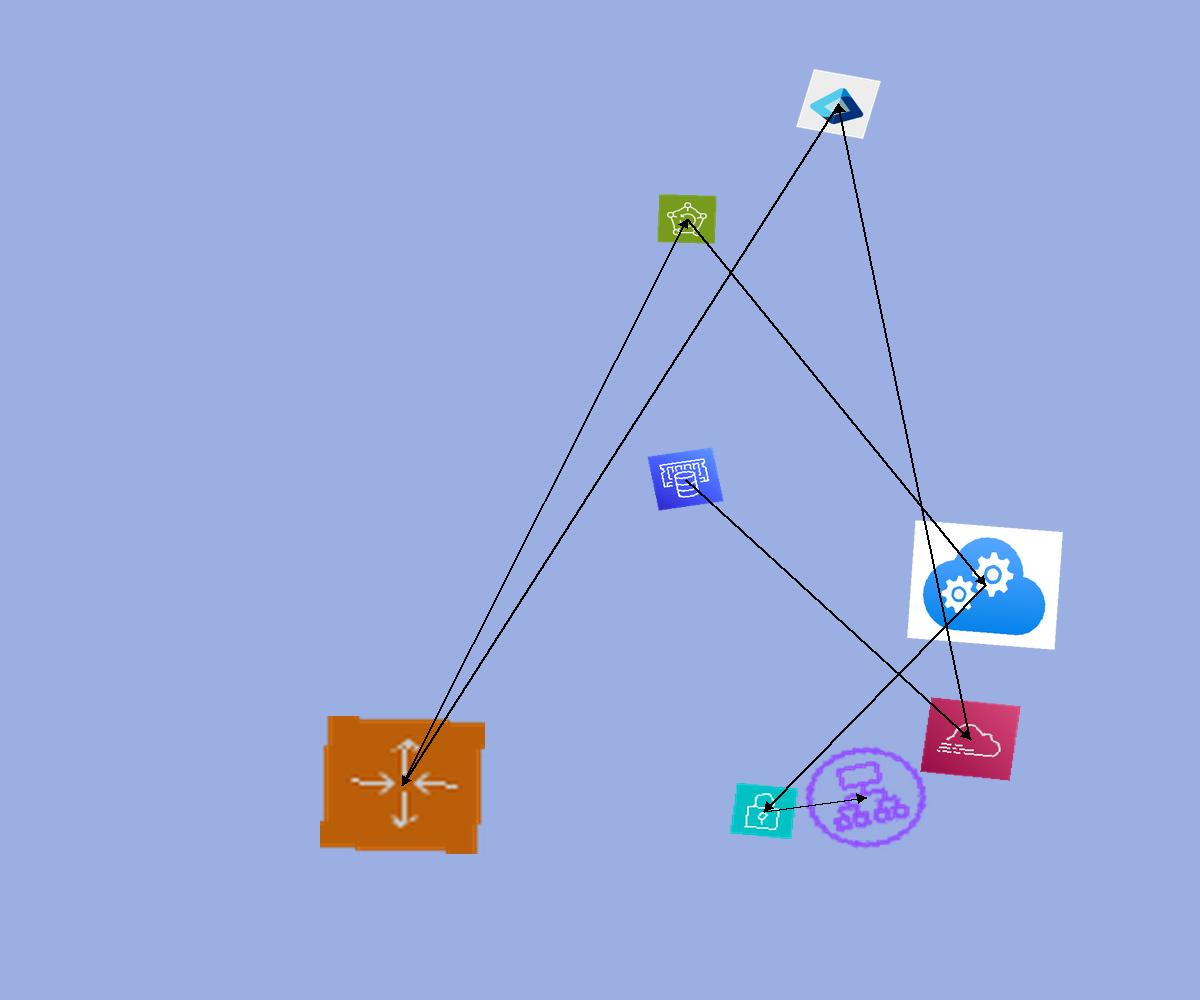AWS-Backup: (657, 194, 717, 244)
AWS-CloudTrail: (920, 697, 1021, 781)
AWS-ElastiCache: (647, 447, 724, 511)
AWS-Private-subnet: (729, 782, 799, 840)
AWS-Res_Elastic-Load-Balancing_Application-Load-Balancer: (785, 730, 947, 865)
AWS-Scaling-group: (320, 716, 485, 854)
Azure_cloud_services: (907, 520, 1063, 650)
Azure_microsoft_entra: (796, 69, 881, 139)
